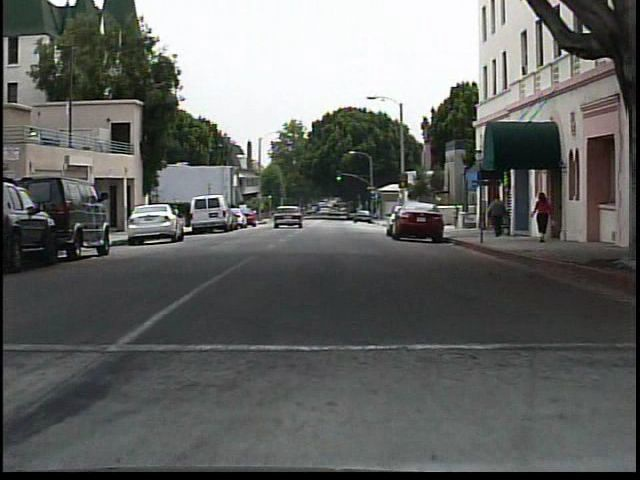person: (532, 187, 555, 244), (484, 193, 508, 240)
